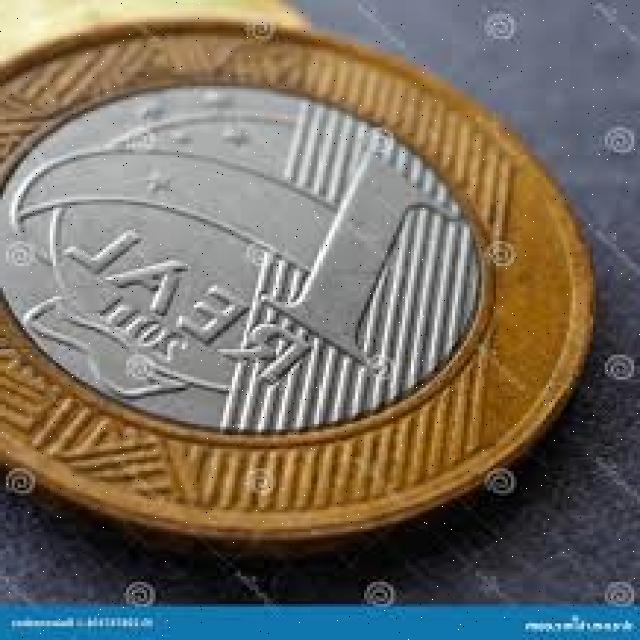1 real: (0, 28, 584, 552)
